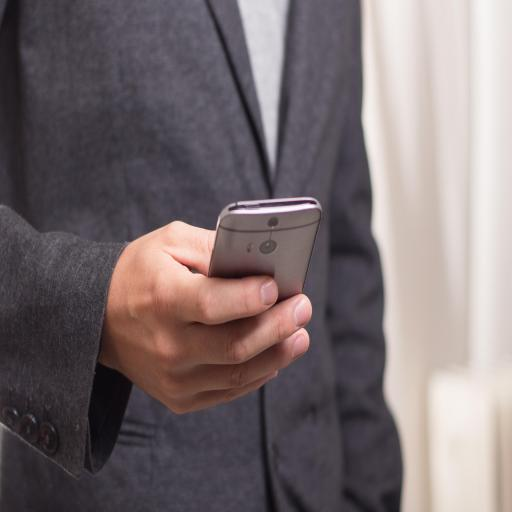phone: (213, 195, 326, 355)
